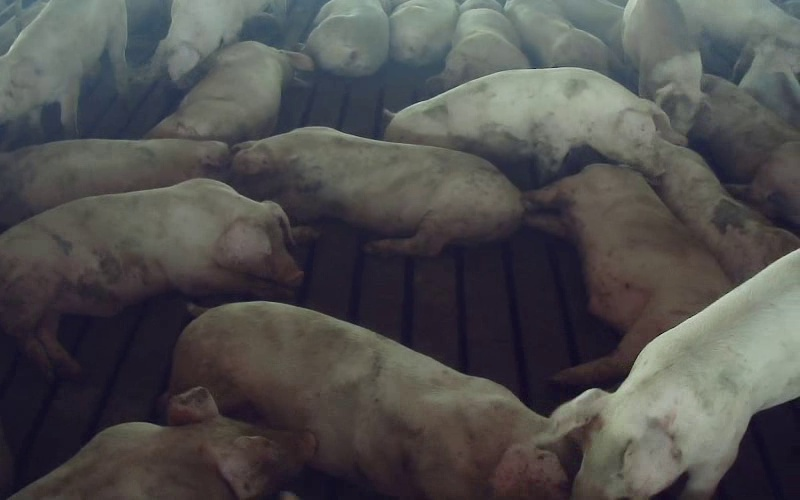pig: (170, 302, 567, 499), (539, 249, 799, 499), (0, 179, 301, 375), (524, 164, 731, 384), (231, 127, 522, 255), (11, 387, 314, 499), (385, 68, 670, 176), (655, 128, 799, 282), (0, 139, 229, 229), (688, 75, 799, 229), (622, 0, 701, 134), (152, 0, 268, 87), (504, 0, 608, 74), (304, 0, 388, 76), (389, 0, 458, 66)
